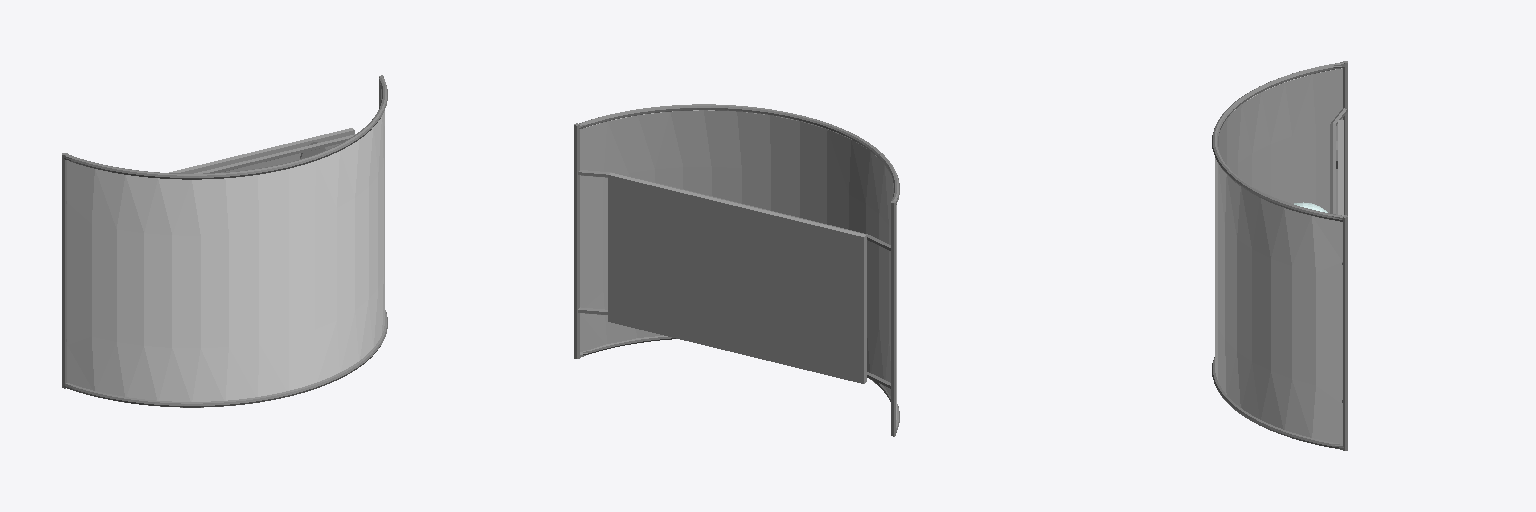
Rendered from 596__lampada_ parete_ginger_30_avorio.obj.
The picture shows the model from 3 angles: view 1: azimuth 30°, elevation 25°; view 2: azimuth 150°, elevation 25°; view 3: azimuth 270°, elevation 25°; orthographic projection.
Parts seen in each view (by area): view 1: 4_4, 2_2, 1_1; view 2: 1_1, 3_3, 2_2; view 3: 4_4, 3_3, 2_2, 1_1.
Boxes of the visible parts, box(x1,y1,x2,y2) form: 4_4: box(67, 111, 384, 401); 2_2: box(62, 75, 387, 407); 1_1: box(169, 128, 354, 173); 1_1: box(608, 173, 866, 383); 3_3: box(580, 110, 893, 395); 2_2: box(574, 104, 899, 436); 4_4: box(1215, 68, 1342, 443); 3_3: box(1218, 68, 1342, 214); 2_2: box(1212, 61, 1347, 450); 1_1: box(1338, 120, 1343, 215).
Bounding box in the file's own units: 30 × 20.8 × 11.